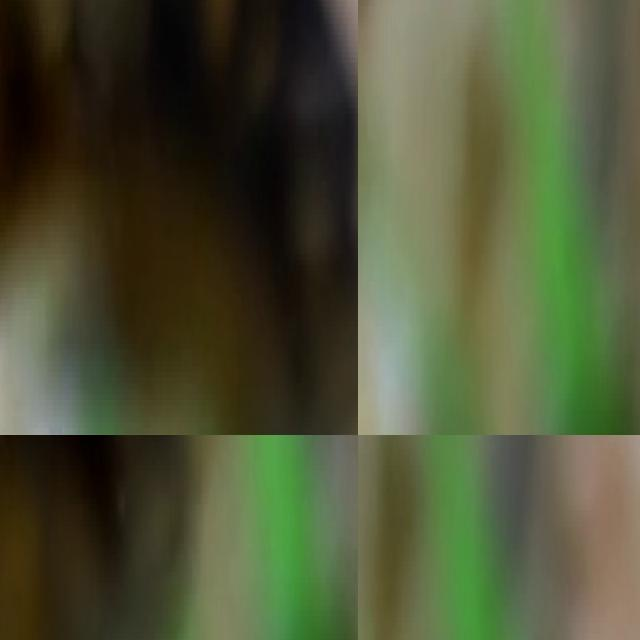fish: (0, 0, 358, 435), (0, 435, 197, 640)
